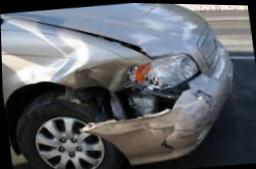Bonnet: (0, 2, 206, 54)
Bumper: (76, 60, 238, 167)
Fender: (0, 14, 153, 97)
Light: (117, 53, 203, 91)
